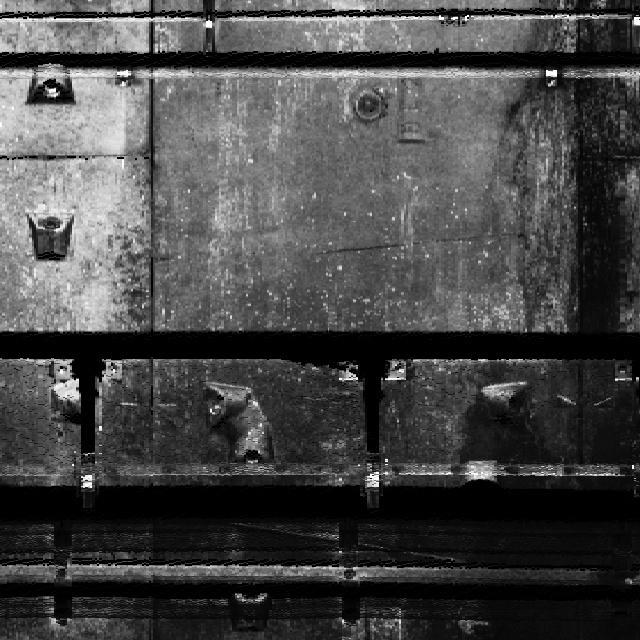leakage: (449, 0, 639, 486)
